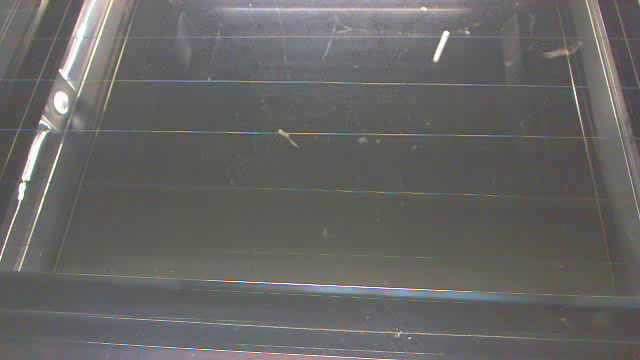alpha: (537, 38, 584, 65), (432, 30, 452, 66), (354, 135, 371, 148)
